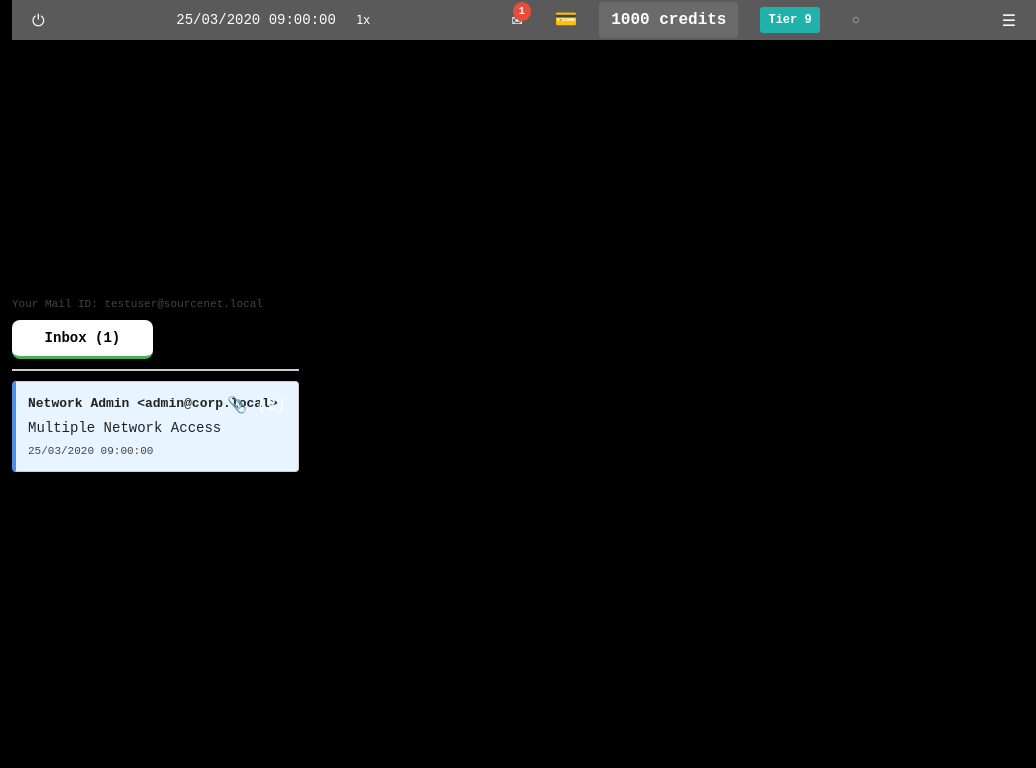
Test case: Network Address Integration › should display multiple network attachments
The image size is (1036, 768).
Expected: the text "Your Mail ID: testuser@sourcenet.local" is shown, [12,296,299,312]
Click the text "Multiple Network Access" at (125, 428), box [28,420,221,436]
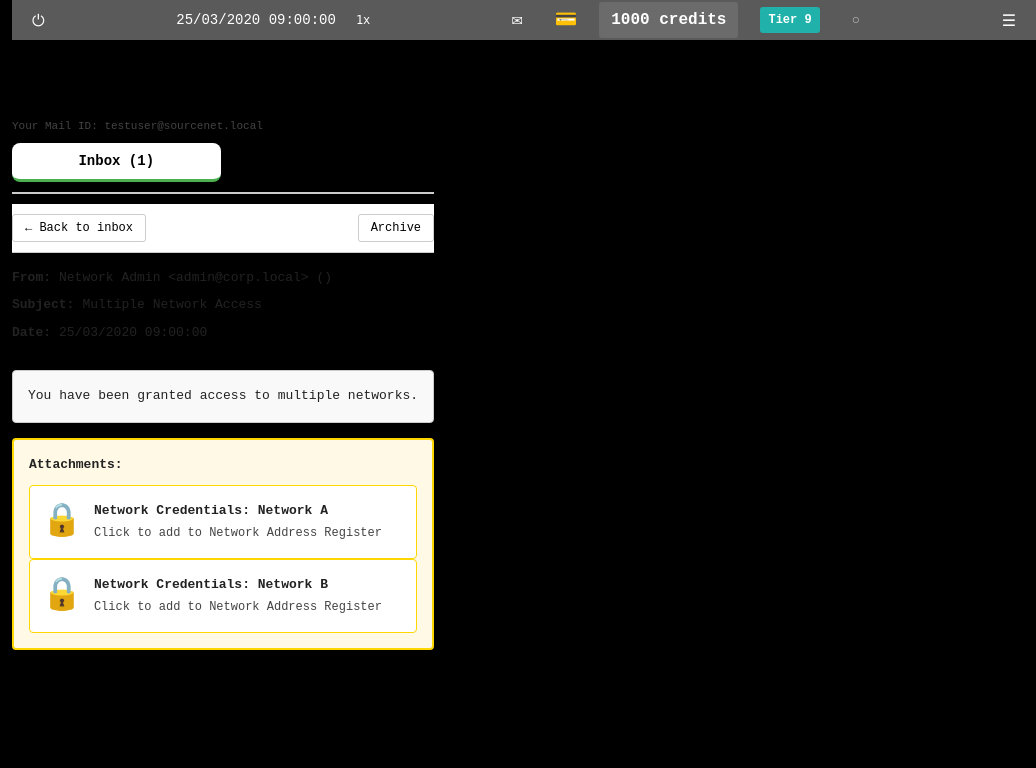
Result: the text "Network Credentials: Network A" is shown at [94,503,328,518]
Result: the text "Network Credentials: Network B" is shown at [94,577,328,592]
Result: the button with test id "network-attachment-multi-net-a" is shown at [29,485,417,559]
